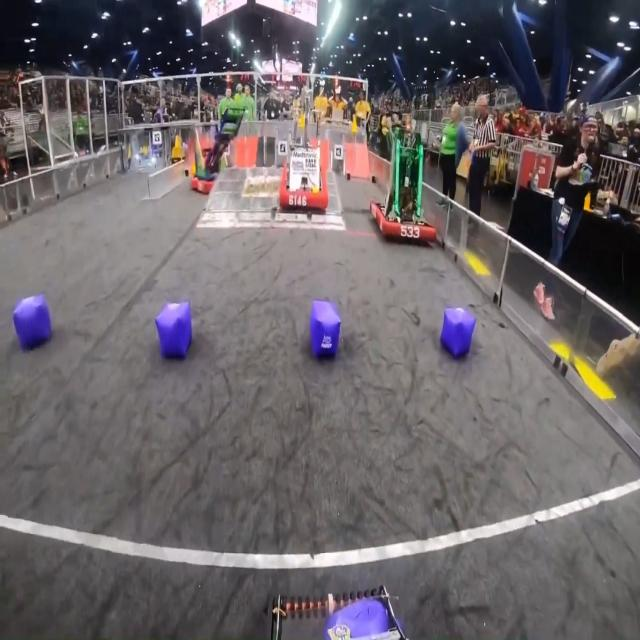robot: (370, 122, 438, 244), (279, 86, 329, 212), (192, 105, 246, 194)
